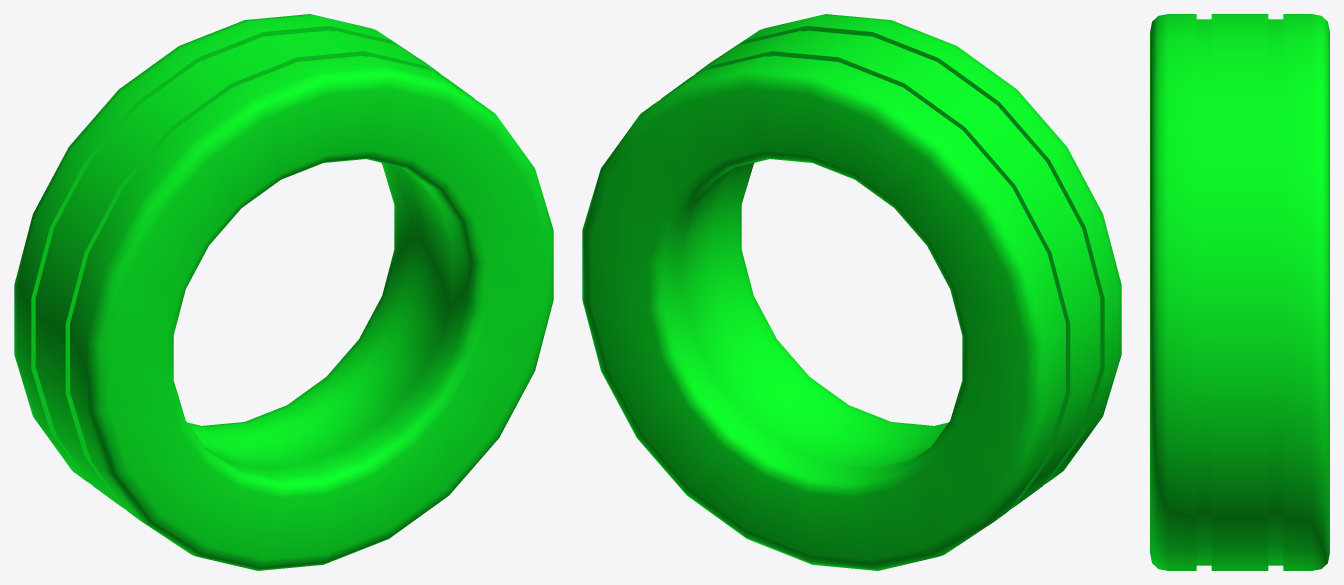
Rendered from Prop_CarTire HighPoly.FBX.
The picture shows the model from 3 angles, left to right: view 1: azimuth 30°, elevation 25°; view 2: azimuth 150°, elevation 25°; view 3: azimuth 270°, elevation 25°; orthographic projection. The views are drawn at different scales.
Visible parts, largest first — view 1: Car Tire High Poly; view 2: Car Tire High Poly; view 3: Car Tire High Poly.
Boxes of the visible parts, <box> form: Car Tire High Poly: <box>14,14,553,570</box>; Car Tire High Poly: <box>582,14,1121,570</box>; Car Tire High Poly: <box>1150,14,1329,570</box>.
Size of the model in its own units: 49.49 by 50 by 16.
